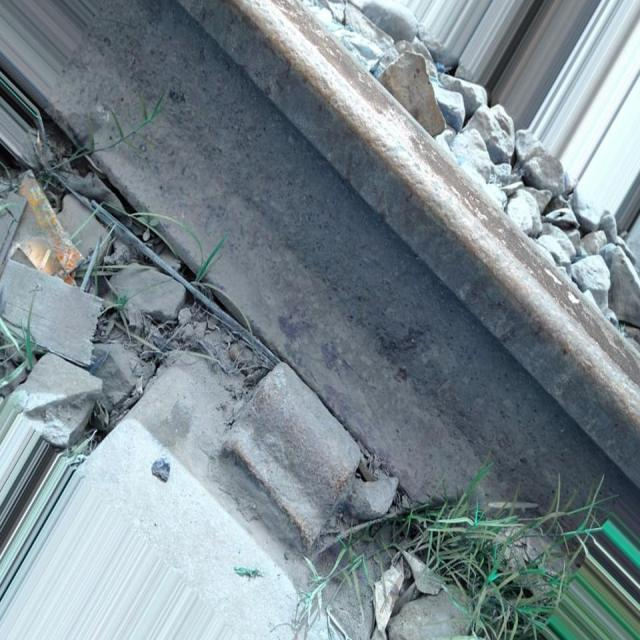Missing Fastener: (198, 333, 402, 565)
